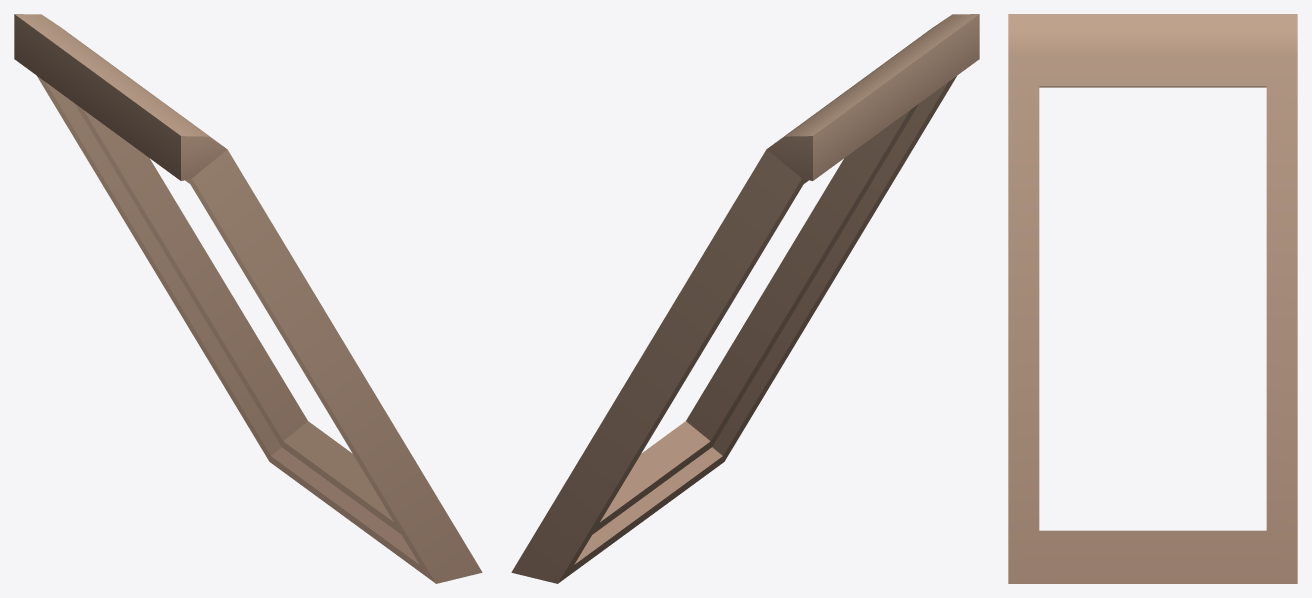
The model's file is roof-steep-window.glb.
3 renders of one model, left to right at view 1: azimuth 30°, elevation 25°; view 2: azimuth 150°, elevation 25°; view 3: azimuth 270°, elevation 25°, orthographic. The views are drawn at different scales.
Parts seen in each view (by area): view 1: roof-steep-window; view 2: roof-steep-window; view 3: roof-steep-window.
Boxes of the visible parts, left/top/right/bottom form: roof-steep-window: left=14, top=14, right=482, bottom=583; roof-steep-window: left=511, top=14, right=979, bottom=583; roof-steep-window: left=1008, top=14, right=1297, bottom=583.
Bounding box in the file's own units: 0.9746 × 1.57 × 0.9333.
